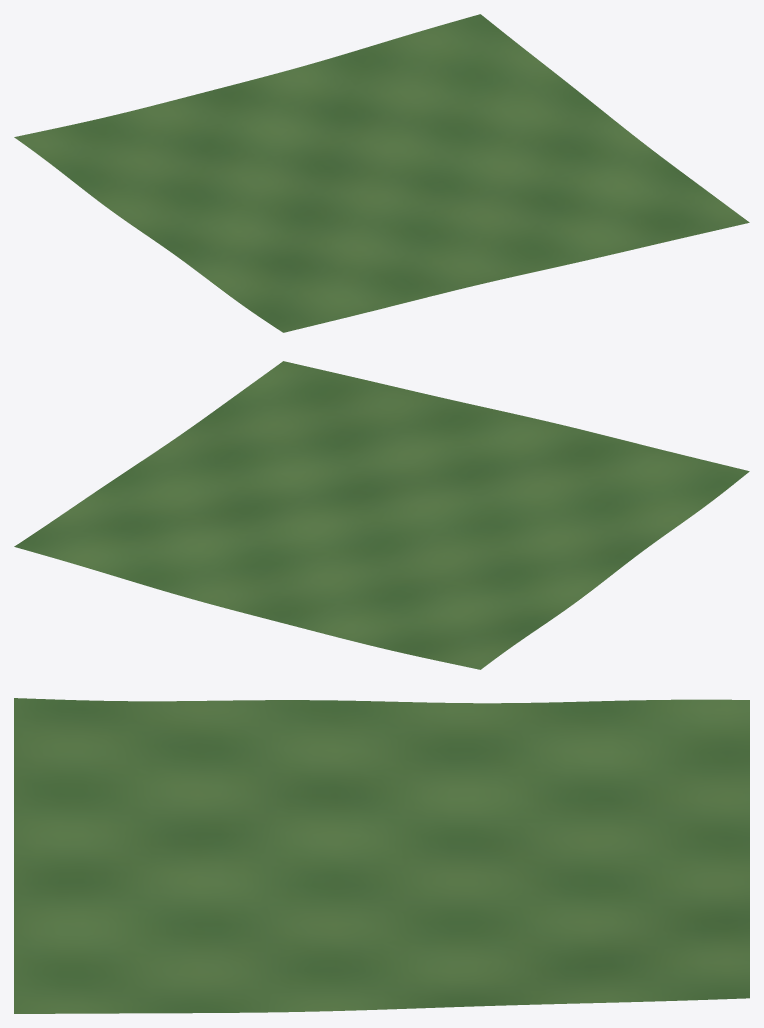
Rendered from chunk_3_6.glb.
The picture shows the model from 3 angles, top to bottom: view 1: azimuth 30°, elevation 25°; view 2: azimuth 150°, elevation 25°; view 3: azimuth 270°, elevation 25°; orthographic projection. The views are drawn at different scales.
Size of the model in its own units: 512 by 13.38 by 512.
